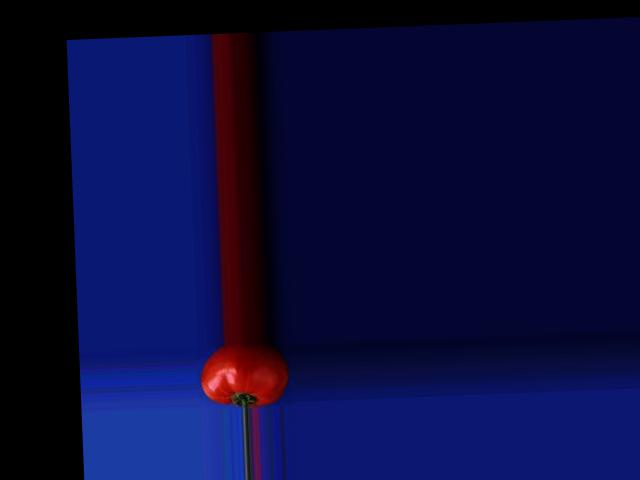tomato: (200, 341, 290, 409)
